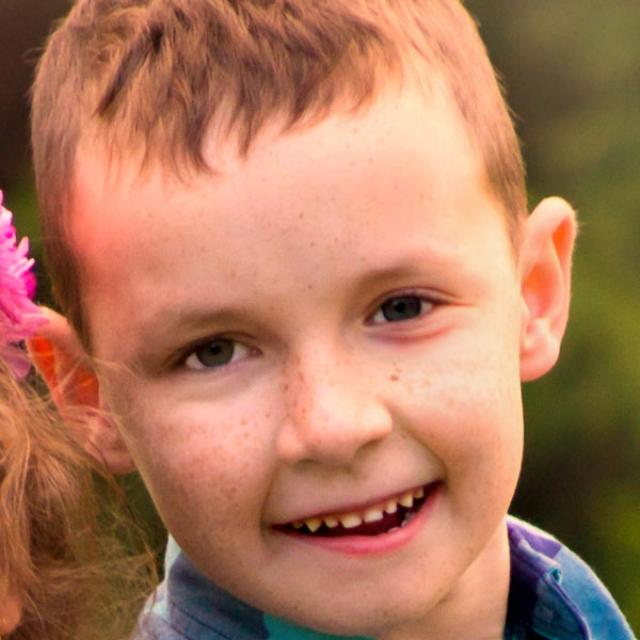face: (25, 0, 585, 630)
